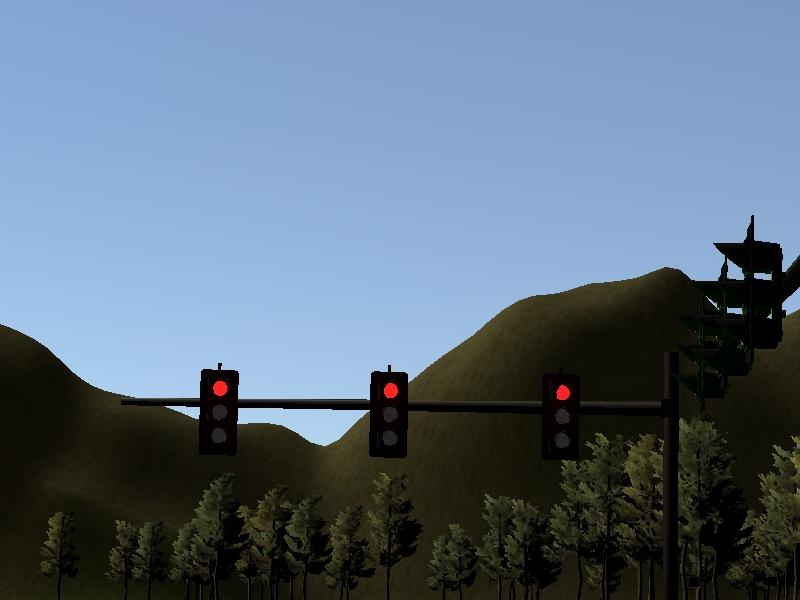traffic_light_red: (182, 366, 648, 460)
